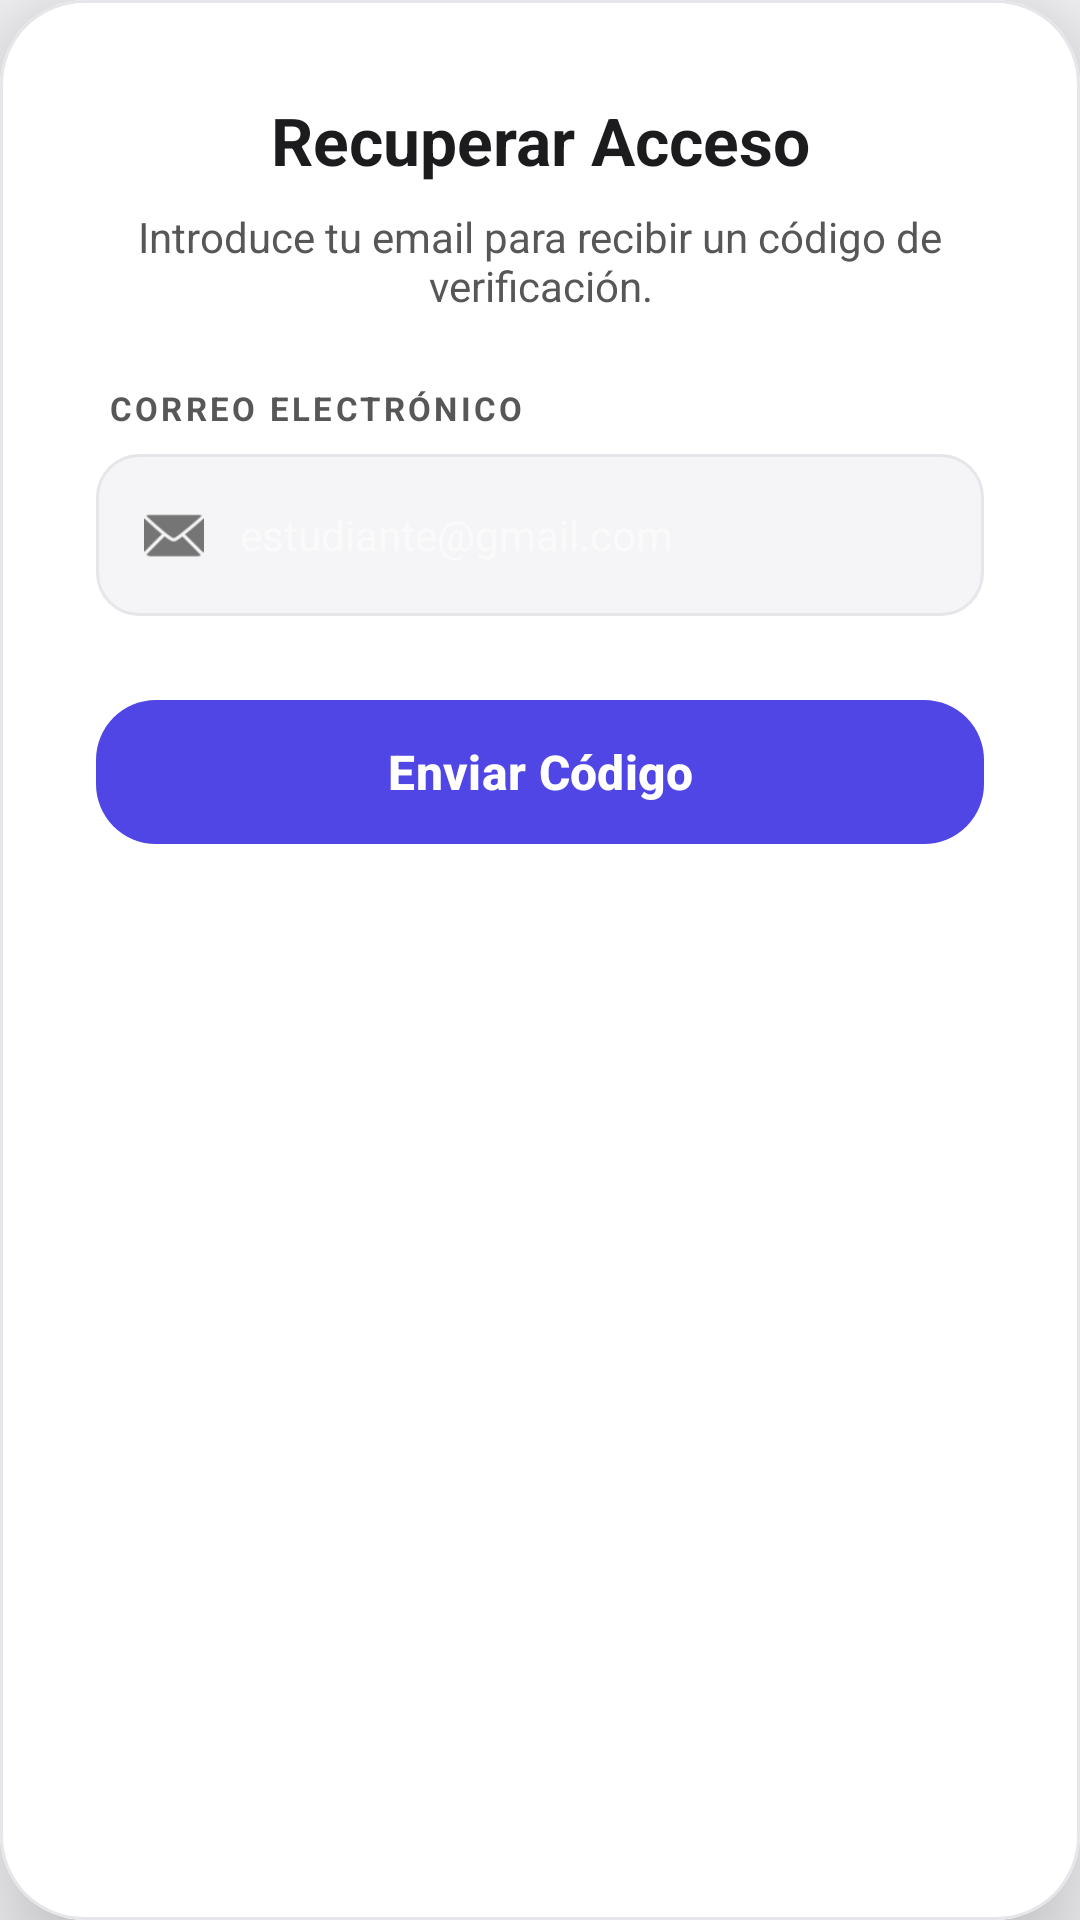

Icon bounding boxes for this 1080w x 1920h phone screenshot, format (x1, y1, x2, y2):
email: (144, 514, 204, 557)
